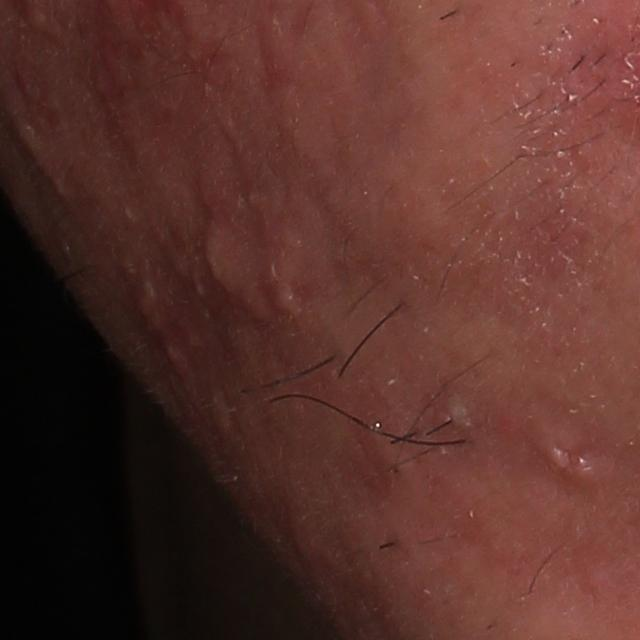hypertrophic_scar: (527, 412, 615, 495), (135, 271, 172, 330), (445, 393, 474, 436)
